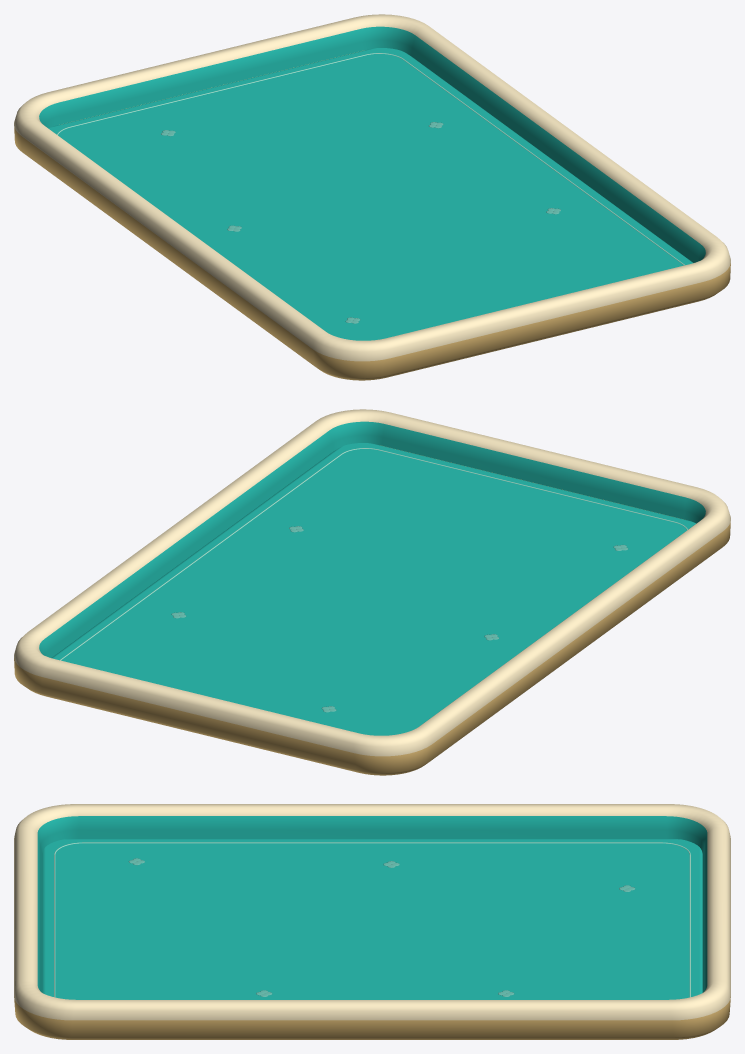
The model's file is tray.glb.
3 renders of one model, top to bottom at view 1: azimuth 30°, elevation 25°; view 2: azimuth 150°, elevation 25°; view 3: azimuth 270°, elevation 25°, orthographic. The views are drawn at different scales.
Visible parts, largest first — view 1: Turquoise_play_surface, Cream_sculpted_tray_rim, Quiet_inner_pinstripe; view 2: Turquoise_play_surface, Cream_sculpted_tray_rim, Quiet_inner_pinstripe; view 3: Turquoise_play_surface, Cream_sculpted_tray_rim, Quiet_inner_pinstripe, TurquoiseTray_Quiet_glaze.
Part boxes in pixels (bbox=[...]): Turquoise_play_surface: bbox=[49, 48, 693, 340]; Cream_sculpted_tray_rim: bbox=[14, 14, 730, 380]; Quiet_inner_pinstripe: bbox=[57, 53, 684, 265]; Turquoise_play_surface: bbox=[51, 443, 695, 735]; Cream_sculpted_tray_rim: bbox=[14, 409, 730, 775]; Quiet_inner_pinstripe: bbox=[60, 448, 687, 660]; Turquoise_play_surface: bbox=[42, 839, 702, 999]; Cream_sculpted_tray_rim: bbox=[14, 804, 730, 1039]; Quiet_inner_pinstripe: bbox=[54, 842, 690, 997]; TurquoiseTray_Quiet_glaze: bbox=[128, 858, 635, 996].
Bounding box in the file's own units: 7.66 × 0.635 × 11.26.
